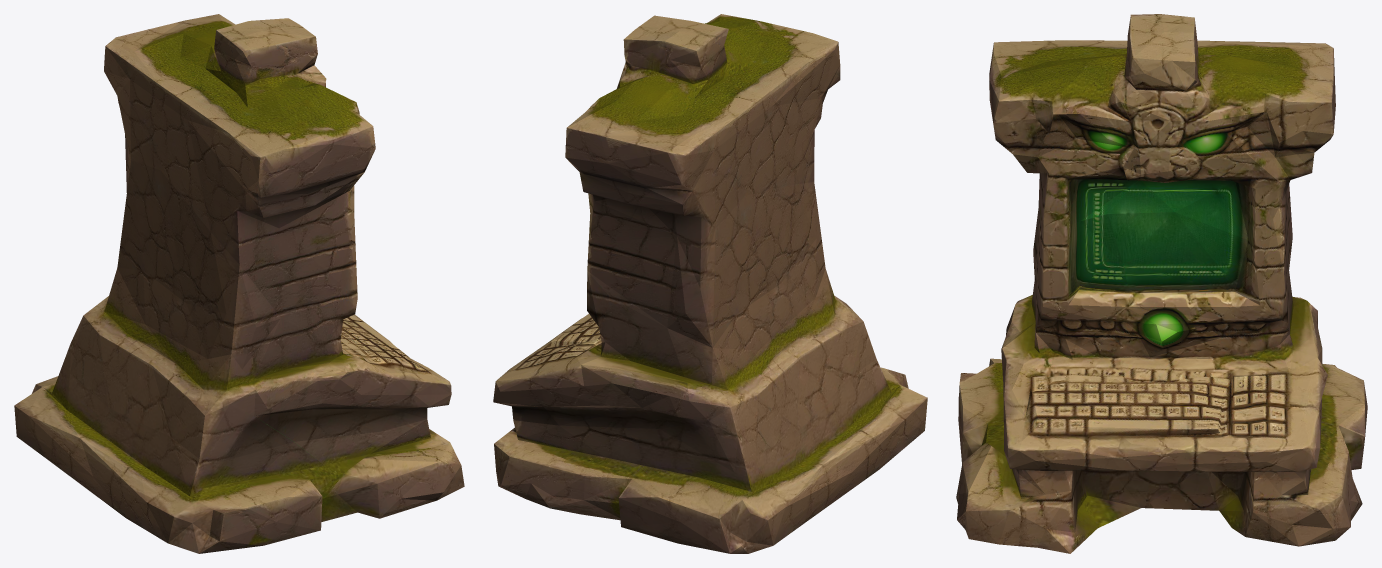
Rendered from stone+computer+3d+model.glb.
3 renders of one model, left to right at view 1: azimuth 30°, elevation 25°; view 2: azimuth 150°, elevation 25°; view 3: azimuth 270°, elevation 25°, orthographic. The views are drawn at different scales.
Visible parts, largest first — view 1: tripo_node_1d358c9a-e68a-4dfc-a656-d3e587fe1efc; view 2: tripo_node_1d358c9a-e68a-4dfc-a656-d3e587fe1efc; view 3: tripo_node_1d358c9a-e68a-4dfc-a656-d3e587fe1efc.
Part boxes in pixels (box(x1,y1,x2,y2)): tripo_node_1d358c9a-e68a-4dfc-a656-d3e587fe1efc: box(14, 14, 464, 553); tripo_node_1d358c9a-e68a-4dfc-a656-d3e587fe1efc: box(493, 14, 927, 553); tripo_node_1d358c9a-e68a-4dfc-a656-d3e587fe1efc: box(956, 14, 1367, 553).
Size of the model in its own units: 0.7355 by 0.9875 by 0.8047.
1 material, 1 textured.
